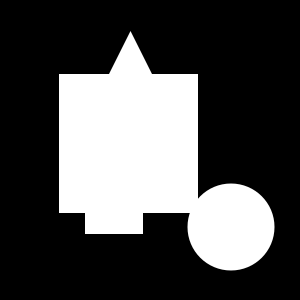circle: (59, 74, 198, 213), (85, 176, 143, 234)
rectangle: (188, 184, 274, 270), (133, 141, 191, 199)
triangle: (99, 31, 162, 94)
